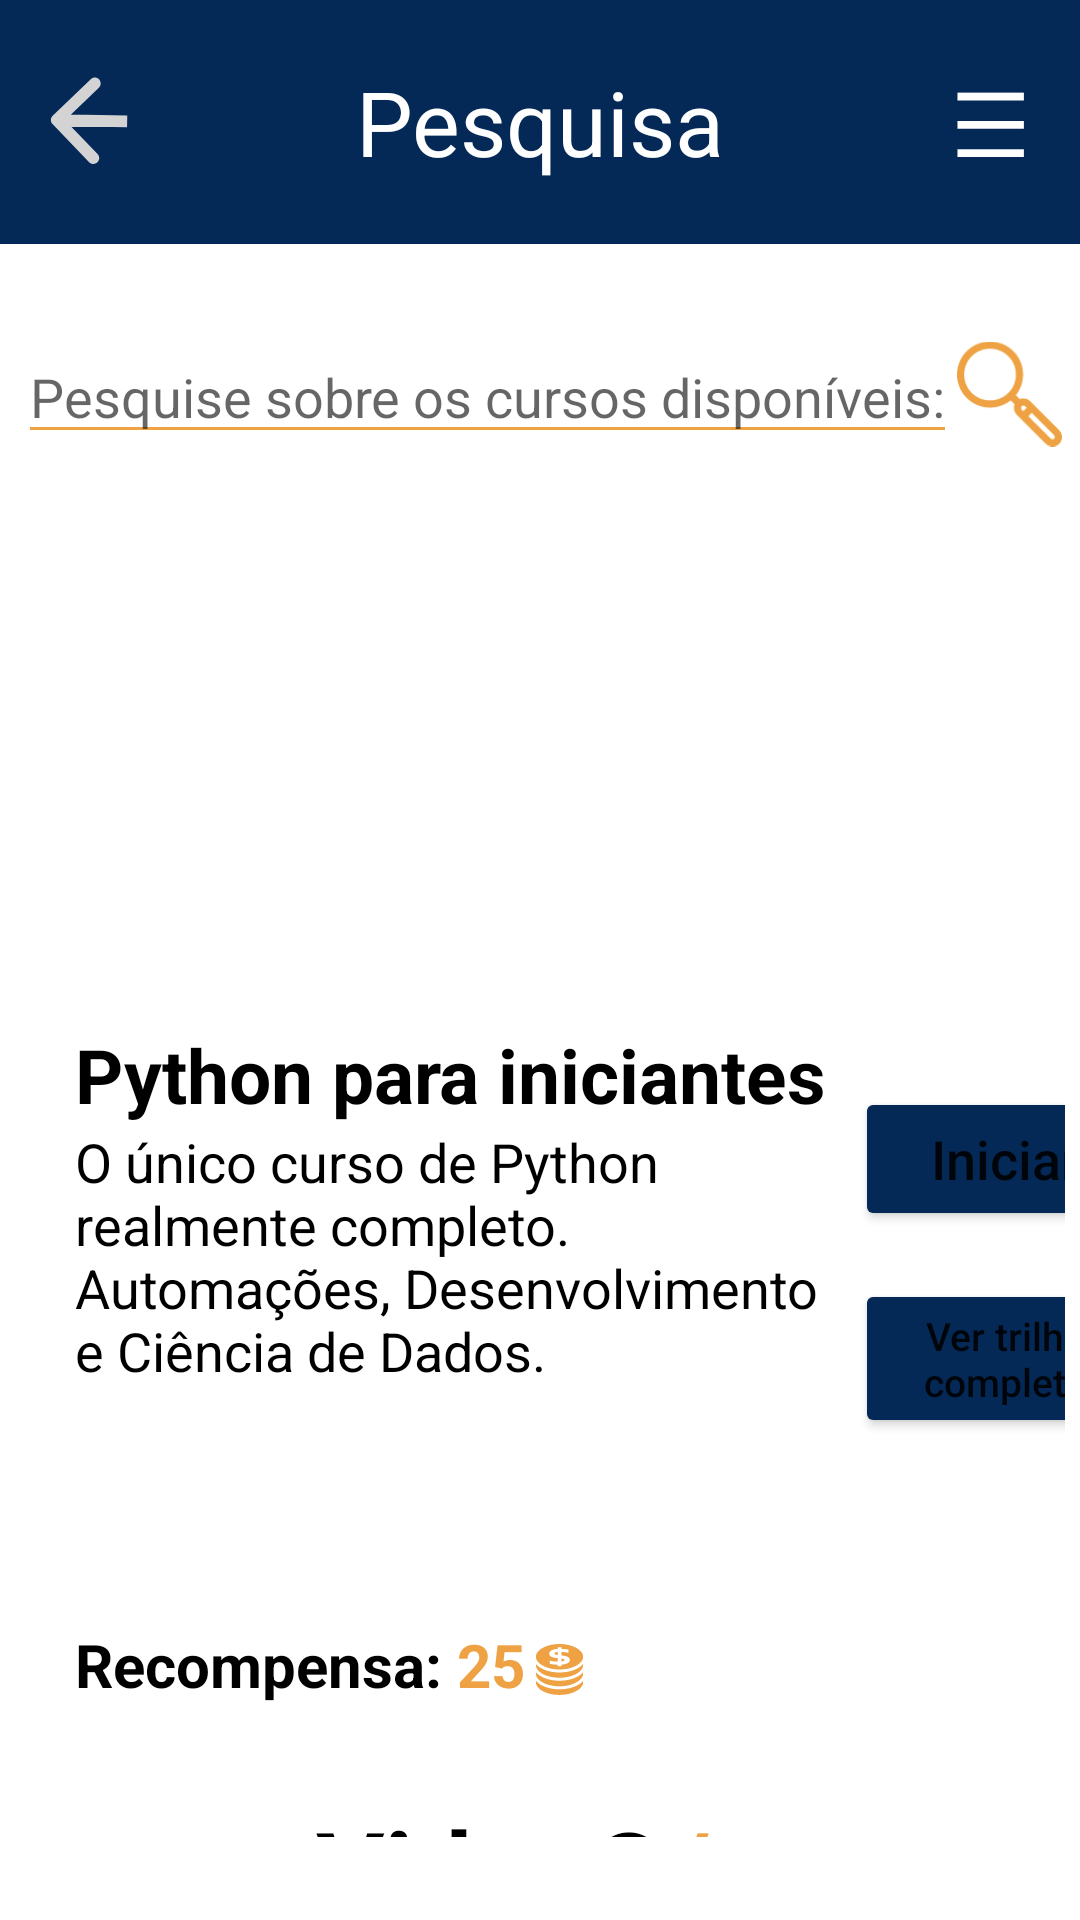

Point at icon controls on the screen. Image size 1080 x 1920, points as (x=x, y=y).
loupe: (x=1009, y=394)
